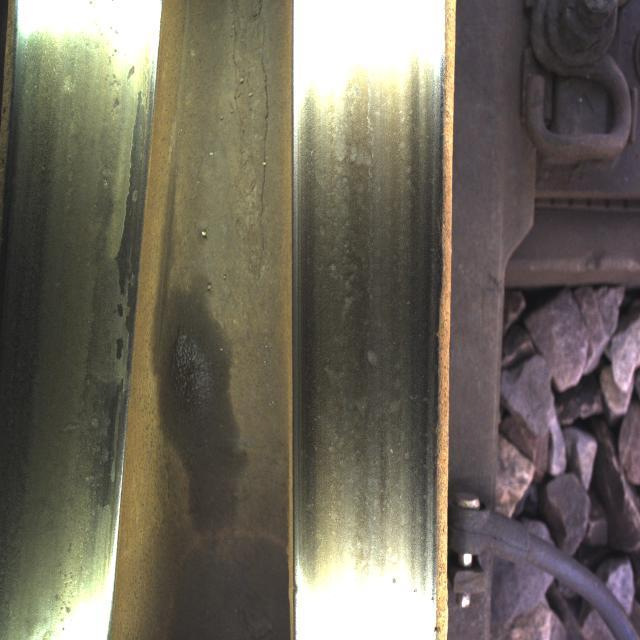break: (304, 29, 425, 611)
normal: (18, 0, 128, 525)
